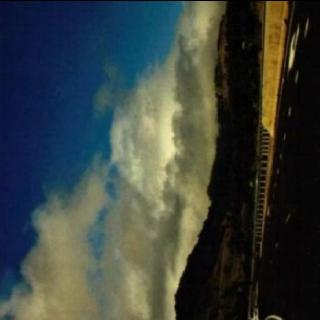Stratocumulus: (0, 0, 225, 320)
